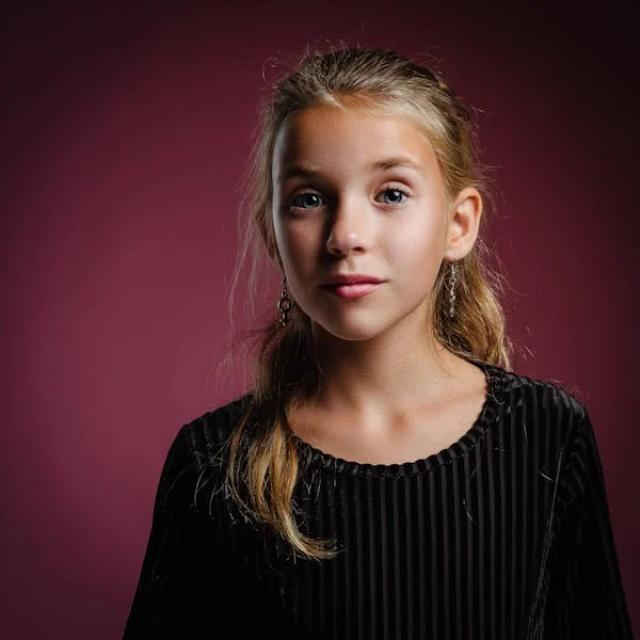no_mask: (268, 87, 476, 358)
